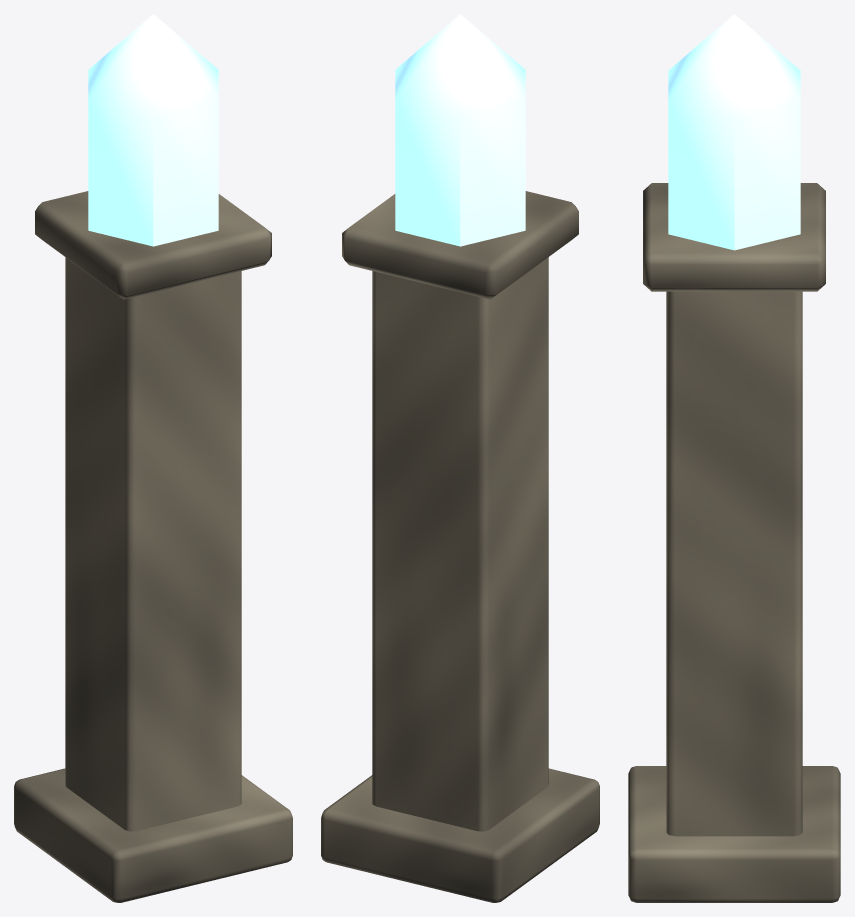
The model's file is Furn_MagicLab_WardPillar.fbx.
3 views of the same model, side by side, from view 1: azimuth 30°, elevation 25°; view 2: azimuth 150°, elevation 25°; view 3: azimuth 270°, elevation 25° (orthographic).
Visible parts, largest first — view 1: Furn_MagicLab_WardPillar; view 2: Furn_MagicLab_WardPillar; view 3: Furn_MagicLab_WardPillar.
Part boxes in pixels (left/top/right/bottom): Furn_MagicLab_WardPillar: left=14, top=14, right=292, bottom=902; Furn_MagicLab_WardPillar: left=321, top=14, right=599, bottom=902; Furn_MagicLab_WardPillar: left=628, top=14, right=840, bottom=902.
Size of the model in its own units: 0.5 by 2.2 by 0.5.
Materials: 2 (1 with a texture image).
